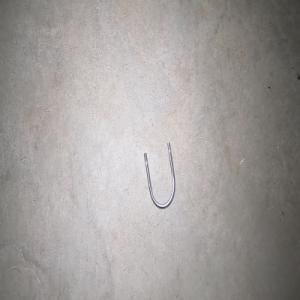ClampPart: (143, 141, 175, 209)
